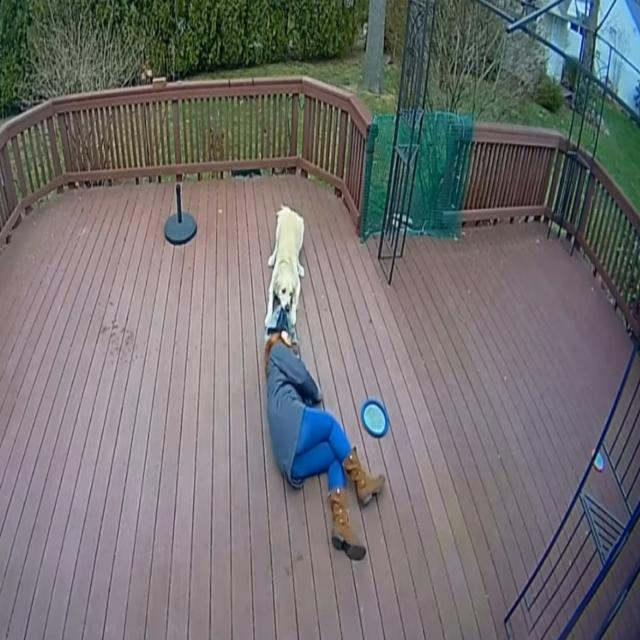fallen: (265, 328, 385, 560)
